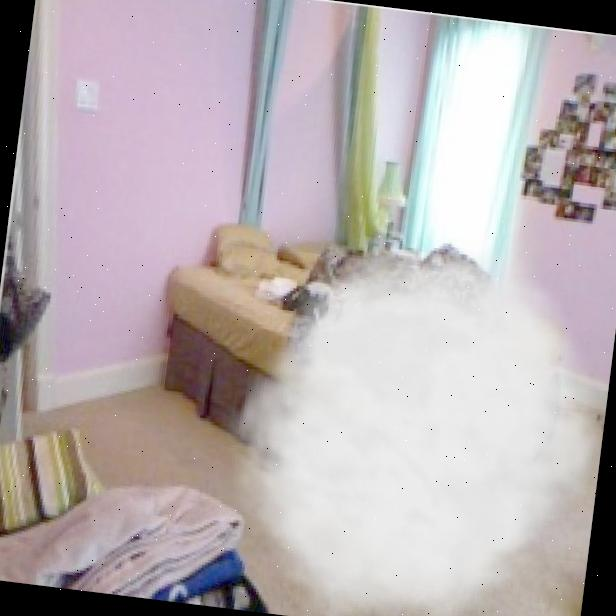smoke: (197, 202, 616, 616)
